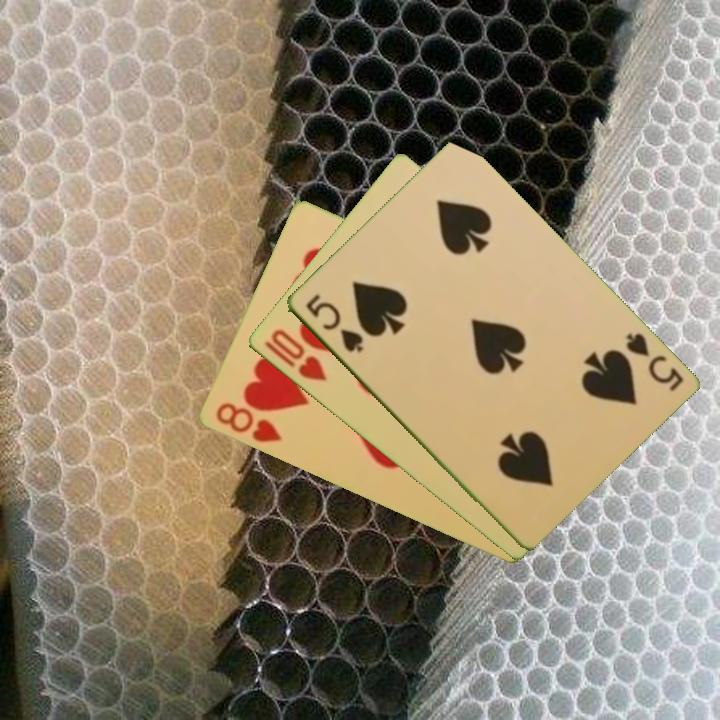10h: (260, 325, 330, 385)
5s: (301, 290, 366, 356), (621, 329, 686, 394)
8h: (211, 399, 284, 446)
